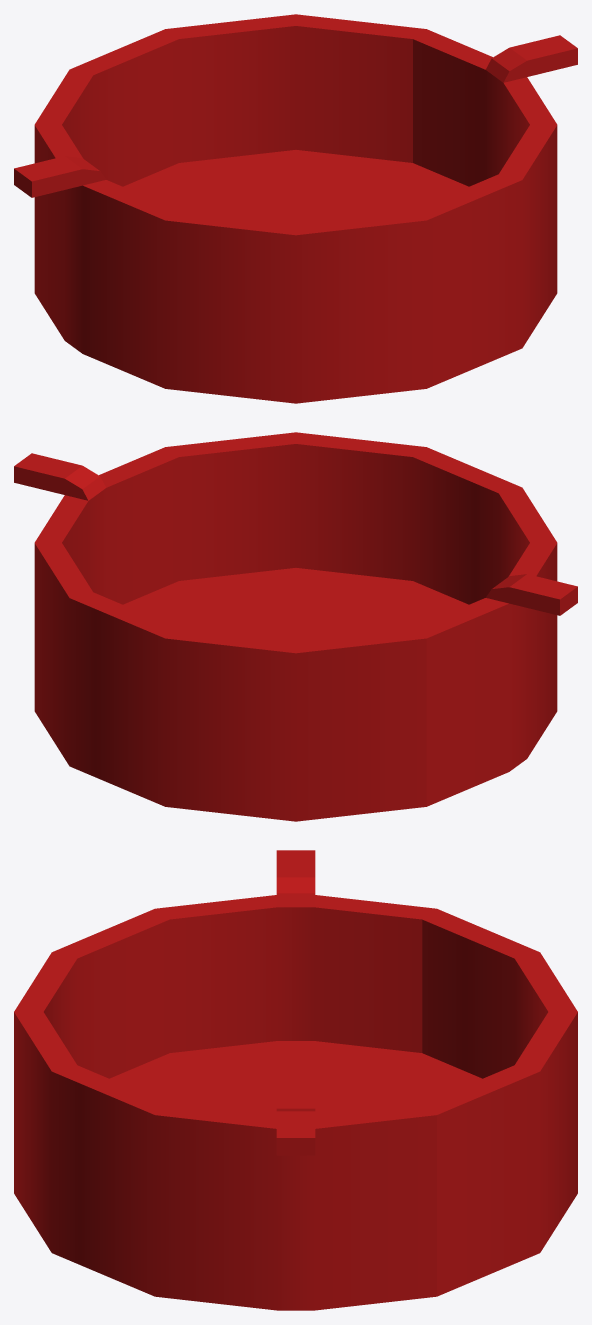
The model's file is Pot003.FBX.
The picture shows the model from 3 angles, top to bottom: view 1: azimuth 30°, elevation 25°; view 2: azimuth 150°, elevation 25°; view 3: azimuth 270°, elevation 25°; orthographic projection. The views are drawn at different scales.
Visible parts, largest first — view 1: Pot003; view 2: Pot003; view 3: Pot003.
Part boxes in pixels (box(x1,y1,x2,y2)): Pot003: box(14, 14, 577, 403); Pot003: box(14, 432, 577, 821); Pot003: box(14, 850, 577, 1310).
Bounding box in the file's own units: 0.6177 × 0.1997 × 0.5122.
